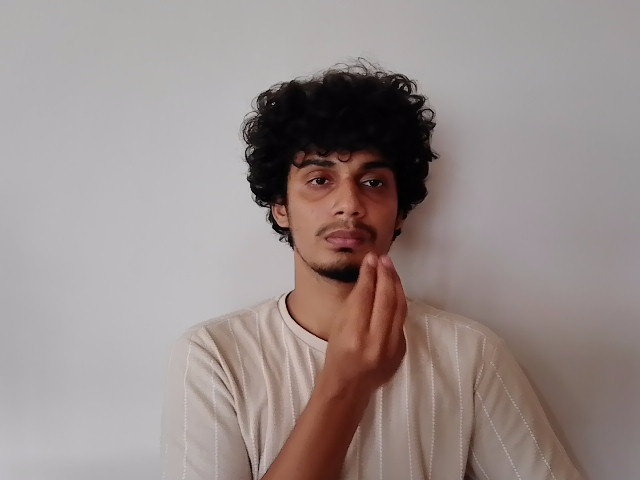eat: (267, 145, 413, 396)
